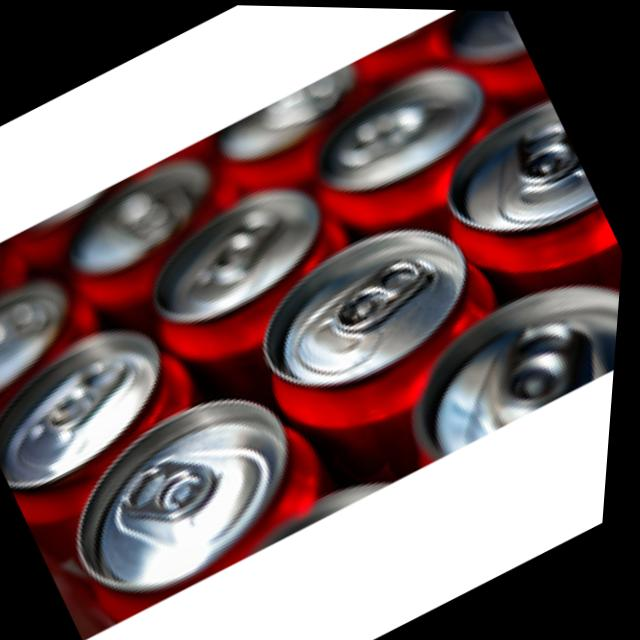aluminum_soda_cans: (47, 358, 341, 609), (243, 191, 512, 424), (388, 242, 626, 460), (428, 85, 607, 258)
